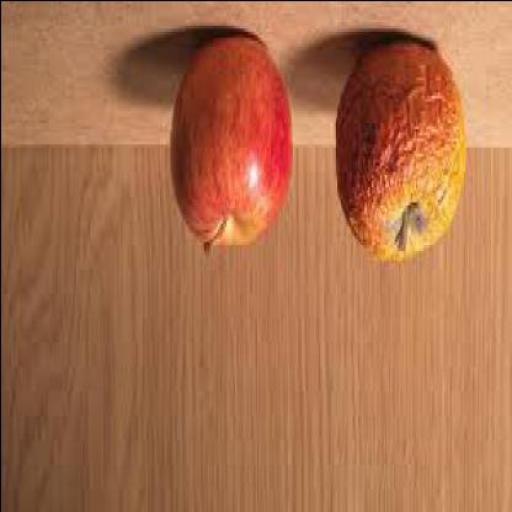biodegradable: (338, 36, 468, 266), (170, 34, 294, 259)
